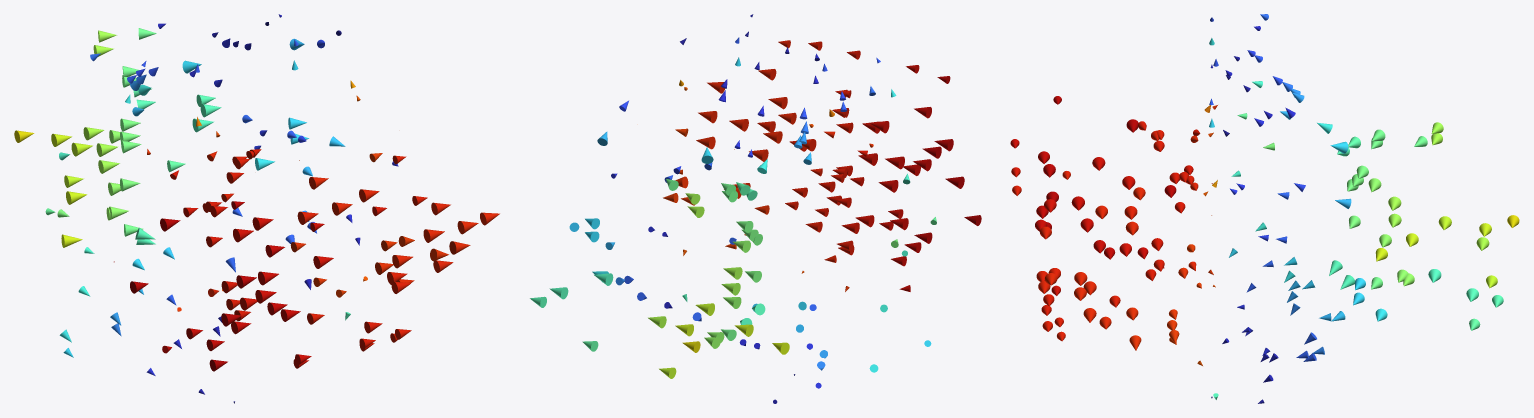
File: LineasCorrienteH2-O2_mh2-6.88_V-0.9.glb
3 renders of one model, left to right at view 1: azimuth 30°, elevation 25°; view 2: azimuth 150°, elevation 25°; view 3: azimuth 270°, elevation 25°, orthographic. The views are drawn at different scales.
Size of the model in its own units: 0.000917 by 0.000964 by 0.00123.
Materials: 2 (2 with a texture image).
